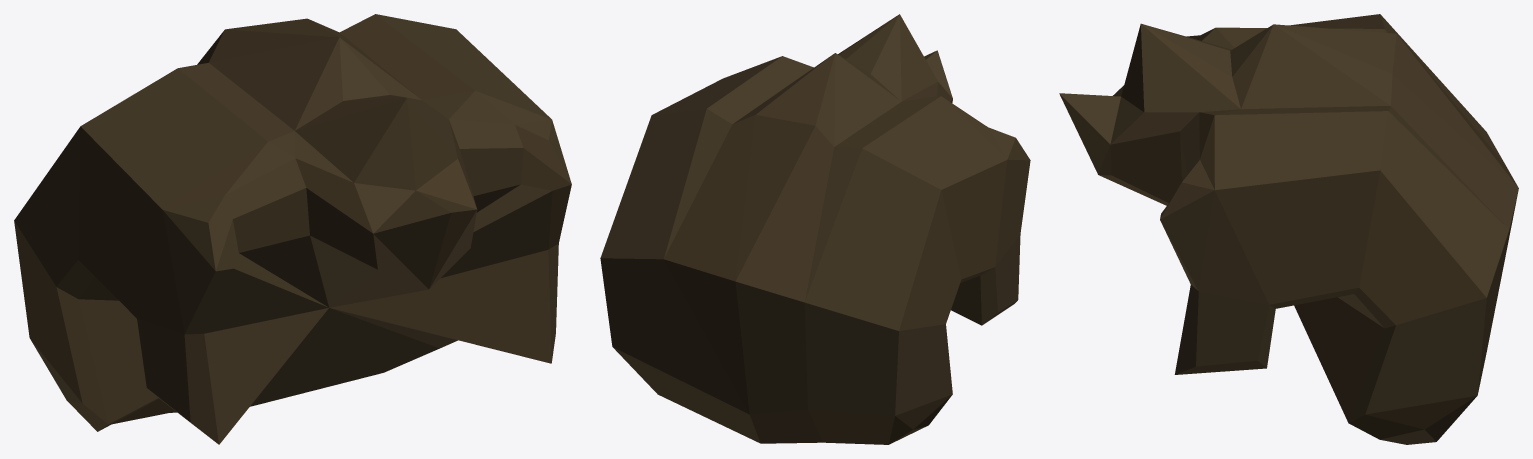
The model's file is Chr_Hair_11_Static.fbx.
The picture shows the model from 3 angles, left to right: view 1: azimuth 30°, elevation 25°; view 2: azimuth 150°, elevation 25°; view 3: azimuth 270°, elevation 25°; orthographic projection. The views are drawn at different scales.
Visible parts, largest first — view 1: Chr_Hair_11_Static; view 2: Chr_Hair_11_Static; view 3: Chr_Hair_11_Static.
Part boxes in pixels (bbox=[...]): Chr_Hair_11_Static: bbox=[14, 14, 571, 444]; Chr_Hair_11_Static: bbox=[600, 14, 1030, 444]; Chr_Hair_11_Static: bbox=[1059, 14, 1518, 444].
Bounding box in the file's own units: 0.2475 × 0.2535 × 0.2766.
